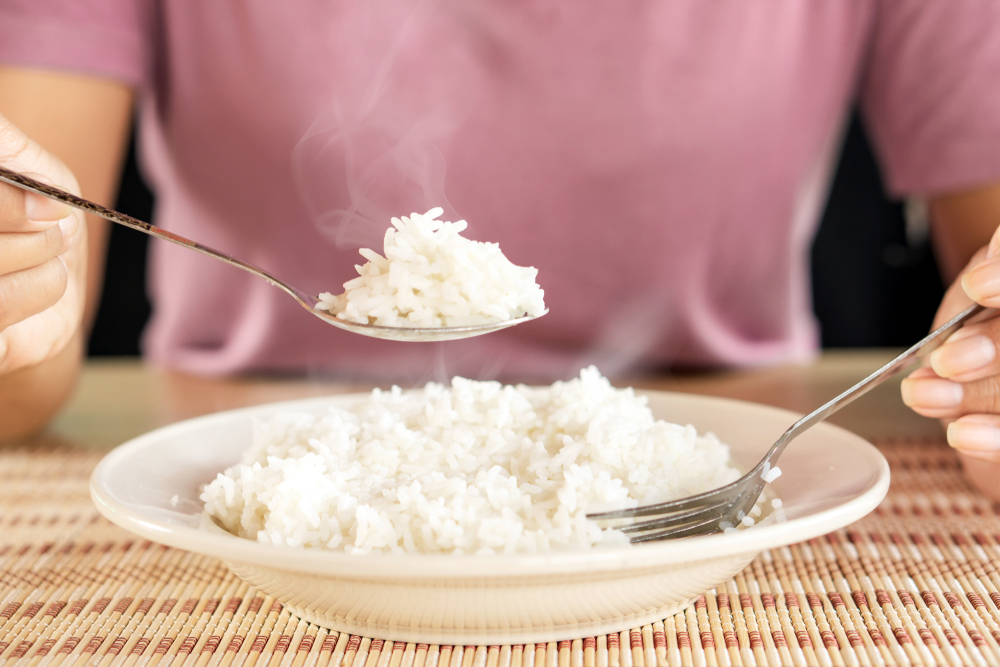Nasi Putih: (155, 350, 864, 660)
